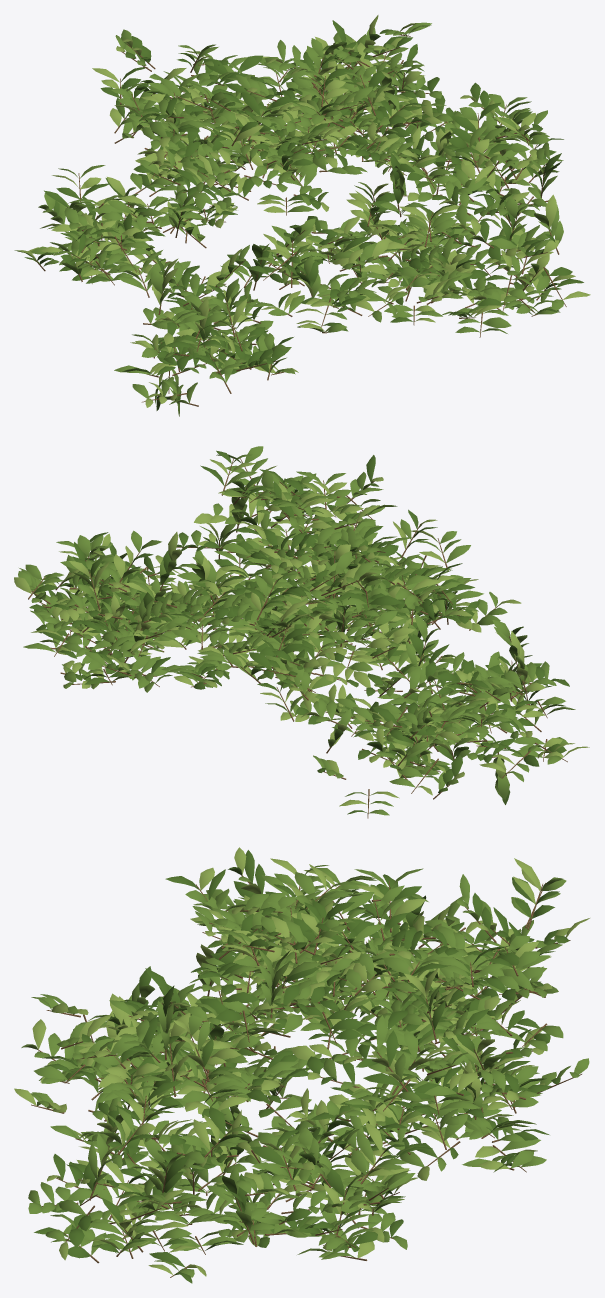
The model's file is tree-crown-mature.glb.
3 views of the same model, one above another, from view 1: azimuth 30°, elevation 25°; view 2: azimuth 150°, elevation 25°; view 3: azimuth 270°, elevation 25° (orthographic). The views are drawn at different scales.
Visible parts, largest first — view 1: tree-crown-mature / N06 / olive leaf mid, tree-crown-mature / N05 / olive leaf shade, tree-crown-mature / N07 / sunlit young leaf, tree-crown-mature / N03 / warm ridged bark; view 2: tree-crown-mature / N06 / olive leaf mid, tree-crown-mature / N05 / olive leaf shade, tree-crown-mature / N07 / sunlit young leaf, tree-crown-mature / N03 / warm ridged bark; view 3: tree-crown-mature / N06 / olive leaf mid, tree-crown-mature / N05 / olive leaf shade, tree-crown-mature / N07 / sunlit young leaf, tree-crown-mature / N03 / warm ridged bark.
Boxes of the visible parts, bbox=[...] form: tree-crown-mature / N06 / olive leaf mid: bbox=[14, 22, 564, 416]; tree-crown-mature / N05 / olive leaf shade: bbox=[24, 20, 583, 410]; tree-crown-mature / N07 / sunlit young leaf: bbox=[18, 15, 590, 407]; tree-crown-mature / N03 / warm ridged bark: bbox=[34, 34, 566, 406]; tree-crown-mature / N06 / olive leaf mid: bbox=[18, 446, 575, 815]; tree-crown-mature / N05 / olive leaf shade: bbox=[29, 450, 569, 814]; tree-crown-mature / N07 / sunlit young leaf: bbox=[14, 459, 589, 806]; tree-crown-mature / N03 / warm ridged bark: bbox=[28, 458, 567, 818]; tree-crown-mature / N06 / olive leaf mid: bbox=[21, 865, 589, 1277]; tree-crown-mature / N05 / olive leaf shade: bbox=[34, 850, 569, 1283]; tree-crown-mature / N07 / sunlit young leaf: bbox=[14, 847, 589, 1276]; tree-crown-mature / N03 / warm ridged bark: bbox=[31, 873, 581, 1277].
Size of the model in its own units: 4.7 by 2.75 by 3.85.
Materials: 4 (1 with a texture image).
